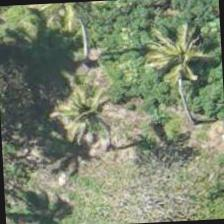Kelapa_Sawit: (36, 65, 130, 160), (136, 7, 224, 100), (34, 0, 128, 63)
